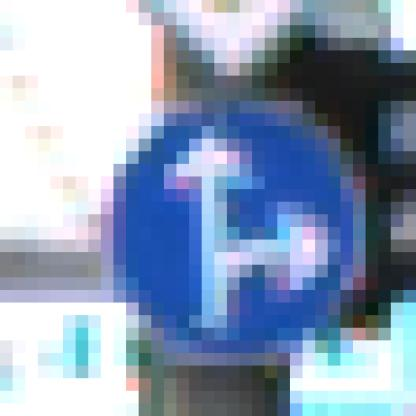Straight or Right: (77, 77, 354, 354)
